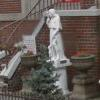Statue: (36, 5, 79, 65)
